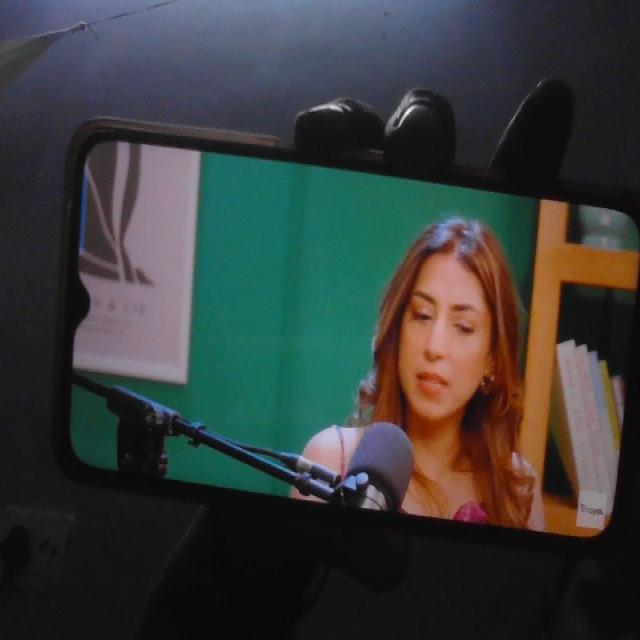fake: (387, 216, 498, 427)
